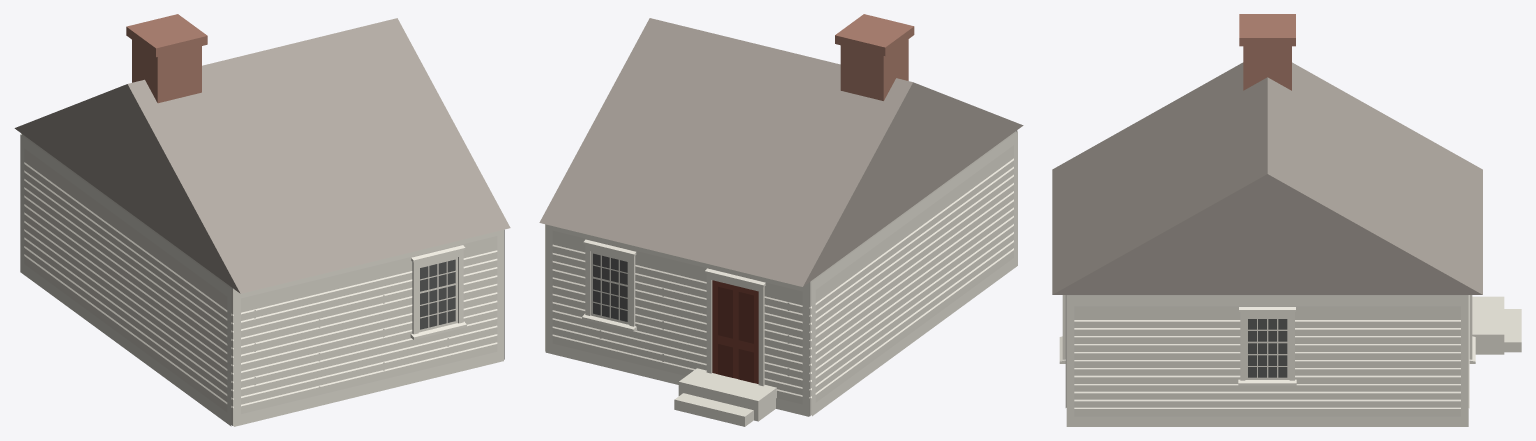
The model's file is recon_1835_south_d3_027__inferred_1835.glb.
3 renders of one model, left to right at view 1: azimuth 30°, elevation 25°; view 2: azimuth 150°, elevation 25°; view 3: azimuth 270°, elevation 25°, orthographic. The views are drawn at different scales.
Parts seen in each view (by area): view 1: recon_1835_south_d3_027__inferred_1835; view 2: recon_1835_south_d3_027__inferred_1835; view 3: recon_1835_south_d3_027__inferred_1835.
Boxes of the visible parts, <box> form: recon_1835_south_d3_027__inferred_1835: <box>14,14,510,426</box>; recon_1835_south_d3_027__inferred_1835: <box>539,14,1023,426</box>; recon_1835_south_d3_027__inferred_1835: <box>1052,14,1521,426</box>.
Size of the model in its own units: 5.28 by 5.58 by 8.11.
